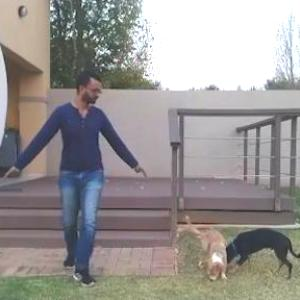land: (1, 58, 163, 292)
